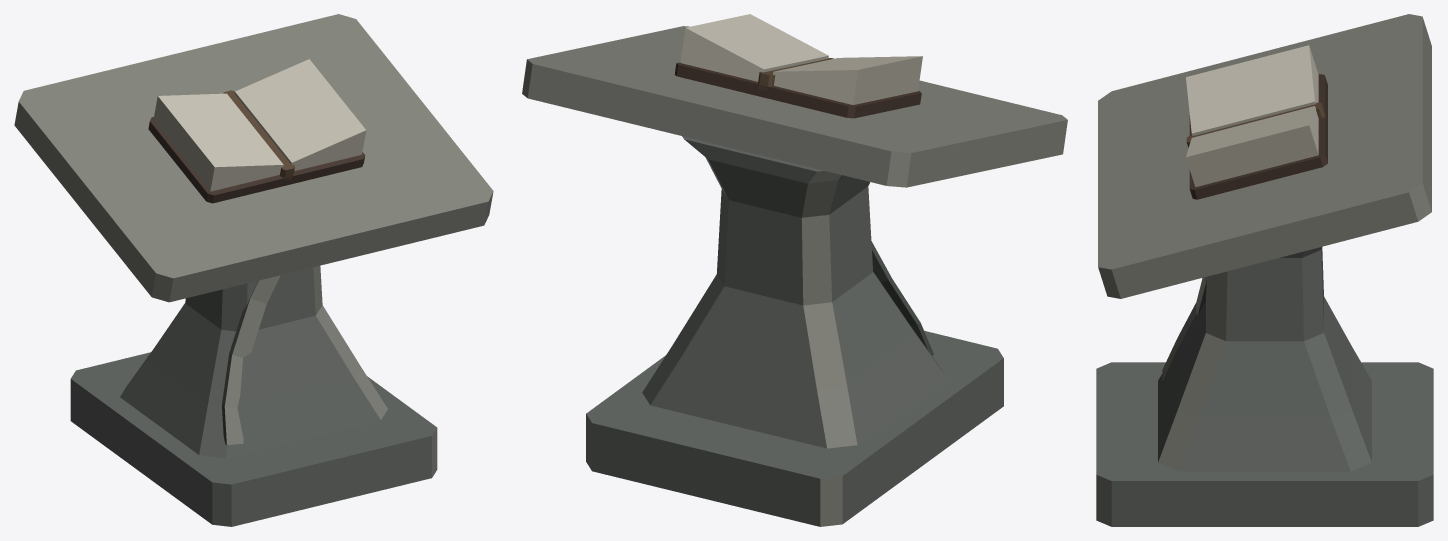
Rendered from p03_wind_reading_pedestal.glb.
3 views of the same model, side by side, from view 1: azimuth 30°, elevation 25°; view 2: azimuth 150°, elevation 25°; view 3: azimuth 270°, elevation 25° (orthographic). The views are drawn at different scales.
Visible parts, largest first — view 1: P03_Chipped_WindReadingPedestal_OnePieceReadingSlab, P03_Chipped_WindReadingPedestal_TaperedStoneStand, P03_Chipped_WindReadingPedestal_ChippedBase, P03_Chipped_WindReadingPedestal_OpenBook_PagesAndCover, P03_Intact_WindReadingPedestal_IntactBase, P03_Chipped_WindReadingPedestal_SingleShallowWindCurve; view 2: P03_Chipped_WindReadingPedestal_TaperedStoneStand, P03_Chipped_WindReadingPedestal_OnePieceReadingSlab, P03_Chipped_WindReadingPedestal_ChippedBase, P03_Chipped_WindReadingPedestal_OpenBook_PagesAndCover, P03_Chipped_WindReadingPedestal_SingleShallowWindCurve, P03_Intact_WindReadingPedestal_IntactBase; view 3: P03_Chipped_WindReadingPedestal_OnePieceReadingSlab, P03_Chipped_WindReadingPedestal_TaperedStoneStand, P03_Chipped_WindReadingPedestal_ChippedBase, P03_Chipped_WindReadingPedestal_OpenBook_PagesAndCover, P03_Intact_WindReadingPedestal_IntactBase, P03_Chipped_WindReadingPedestal_SingleShallowWindCurve.
Boxes of the visible parts, left/top/right/bottom form: P03_Chipped_WindReadingPedestal_OnePieceReadingSlab: left=14, top=14, right=493, bottom=302; P03_Chipped_WindReadingPedestal_TaperedStoneStand: left=120, top=265, right=387, bottom=458; P03_Chipped_WindReadingPedestal_ChippedBase: left=70, top=352, right=415, bottom=526; P03_Chipped_WindReadingPedestal_OpenBook_PagesAndCover: left=148, top=59, right=366, bottom=203; P03_Intact_WindReadingPedestal_IntactBase: left=213, top=376, right=437, bottom=526; P03_Chipped_WindReadingPedestal_SingleShallowWindCurve: left=222, top=275, right=280, bottom=444; P03_Chipped_WindReadingPedestal_TaperedStoneStand: left=642, top=136, right=947, bottom=448; P03_Chipped_WindReadingPedestal_OnePieceReadingSlab: left=522, top=26, right=1067, bottom=187; P03_Chipped_WindReadingPedestal_ChippedBase: left=586, top=330, right=1003, bottom=526; P03_Chipped_WindReadingPedestal_OpenBook_PagesAndCover: left=674, top=14, right=922, bottom=118; P03_Chipped_WindReadingPedestal_SingleShallowWindCurve: left=871, top=241, right=933, bottom=355; P03_Intact_WindReadingPedestal_IntactBase: left=588, top=333, right=1002, bottom=413; P03_Chipped_WindReadingPedestal_OnePieceReadingSlab: left=1098, top=14, right=1431, bottom=298; P03_Chipped_WindReadingPedestal_TaperedStoneStand: left=1158, top=246, right=1371, bottom=471; P03_Chipped_WindReadingPedestal_ChippedBase: left=1096, top=362, right=1433, bottom=526; P03_Chipped_WindReadingPedestal_OpenBook_PagesAndCover: left=1186, top=45, right=1327, bottom=199; P03_Intact_WindReadingPedestal_IntactBase: left=1096, top=363, right=1418, bottom=526; P03_Chipped_WindReadingPedestal_SingleShallowWindCurve: left=1162, top=276, right=1206, bottom=380.
Bounding box in the file's own units: 1.5 × 1.5 × 1.2.
